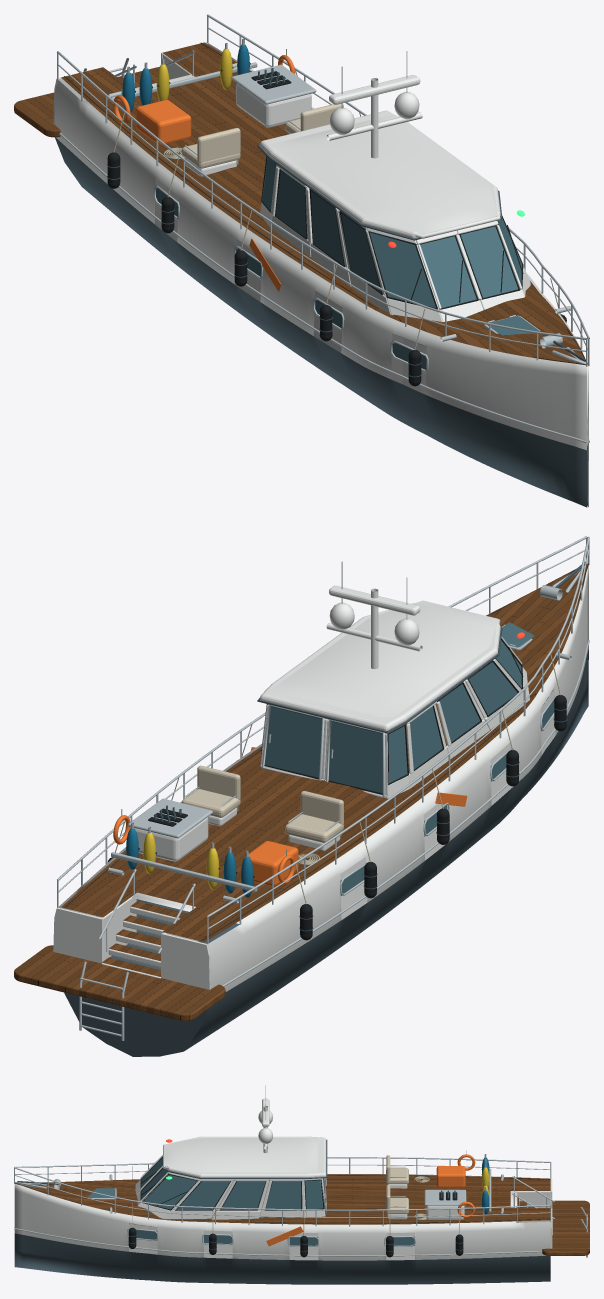
File: voyager_research_launch_v2.glb
The picture shows the model from 3 angles, top to bottom: view 1: azimuth 30°, elevation 25°; view 2: azimuth 150°, elevation 25°; view 3: azimuth 270°, elevation 25°; orthographic projection. The views are drawn at different scales.
Visible parts, largest first — view 1: Voyager X continuous curved hull, Transom cheek with dive opening.002, Voyager X fitted teak deck, Salon individual glazing.016, Salon aft door frame.002, Salon black glazing seal.016, Safety case.001, Salon captain chair cushion.002, Dive cylinder.005, Lower closed transom.001, Dive cylinder.007, Teak curved margin seam.002; view 2: Voyager X fitted teak deck, Transom cheek with dive opening.002, Voyager X continuous curved hull, Salon aft door frame.002, Salon individual glazing.016, Lower closed transom.001, Salon captain chair cushion.002, Salon black glazing seal.016, Safety case.001, Dive cylinder.005, Teak curved margin seam.002, Dive cylinder.007 (+1 smaller); view 3: Voyager X continuous curved hull, Voyager X fitted teak deck, Transom cheek with dive opening.002, Salon aft door frame.002, Salon individual glazing.016, Salon black glazing seal.016, Safety case.001, Salon captain chair cushion.002, Teak curved margin seam.002, Lower closed transom.001, Fender hanging line.010.
Part boxes in pixels (x1,y1,x2,y2): Voyager X continuous curved hull: [54, 43, 588, 507]; Transom cheek with dive opening.002: [53, 42, 530, 321]; Voyager X fitted teak deck: [14, 42, 587, 364]; Salon individual glazing.016: [156, 68, 540, 369]; Salon aft door frame.002: [57, 14, 589, 442]; Salon black glazing seal.016: [107, 63, 566, 386]; Safety case.001: [113, 55, 295, 291]; Salon captain chair cushion.002: [181, 103, 458, 235]; Dive cylinder.005: [122, 44, 249, 112]; Lower closed transom.001: [107, 144, 585, 377]; Dive cylinder.007: [156, 48, 232, 101]; Teak curved margin seam.002: [64, 42, 587, 365]; Voyager X fitted teak deck: [14, 563, 587, 1021]; Transom cheek with dive opening.002: [53, 585, 529, 989]; Voyager X continuous curved hull: [58, 565, 588, 1051]; Salon aft door frame.002: [57, 536, 589, 1040]; Salon individual glazing.016: [154, 622, 554, 893]; Lower closed transom.001: [64, 561, 585, 1056]; Salon captain chair cushion.002: [181, 765, 343, 843]; Salon black glazing seal.016: [107, 638, 566, 940]; Safety case.001: [113, 747, 467, 886]; Dive cylinder.005: [126, 828, 253, 897]; Teak curved margin seam.002: [64, 563, 588, 941]; Dive cylinder.007: [143, 832, 219, 889]; Voyager X continuous curved hull: [14, 1174, 550, 1284]; Voyager X fitted teak deck: [15, 1174, 589, 1255]; Transom cheek with dive opening.002: [135, 1098, 552, 1248]; Salon aft door frame.002: [14, 1085, 587, 1257]; Salon individual glazing.016: [88, 1157, 455, 1245]; Salon black glazing seal.016: [128, 1156, 484, 1257]; Safety case.001: [266, 1154, 475, 1246]; Salon captain chair cushion.002: [386, 1155, 408, 1214]; Teak curved margin seam.002: [15, 1175, 550, 1223]; Lower closed transom.001: [17, 1139, 463, 1251]; Fender hanging line.010: [132, 1150, 466, 1235].
Size of the model in its own units: 7.63 by 10.53 by 30.08.
17 materials, 1 textured.
